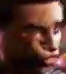kevin: (8, 3, 61, 68)
